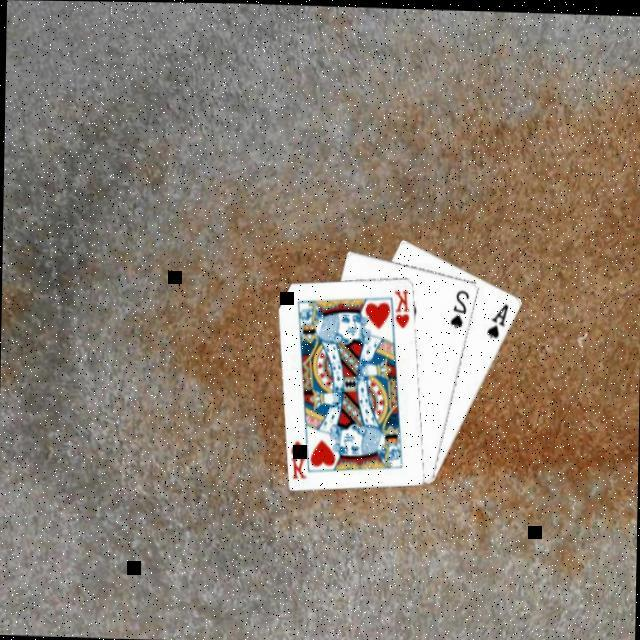2S: (448, 283, 474, 327)
AS: (484, 297, 513, 337)
KH: (288, 434, 311, 478), (392, 283, 414, 327)
